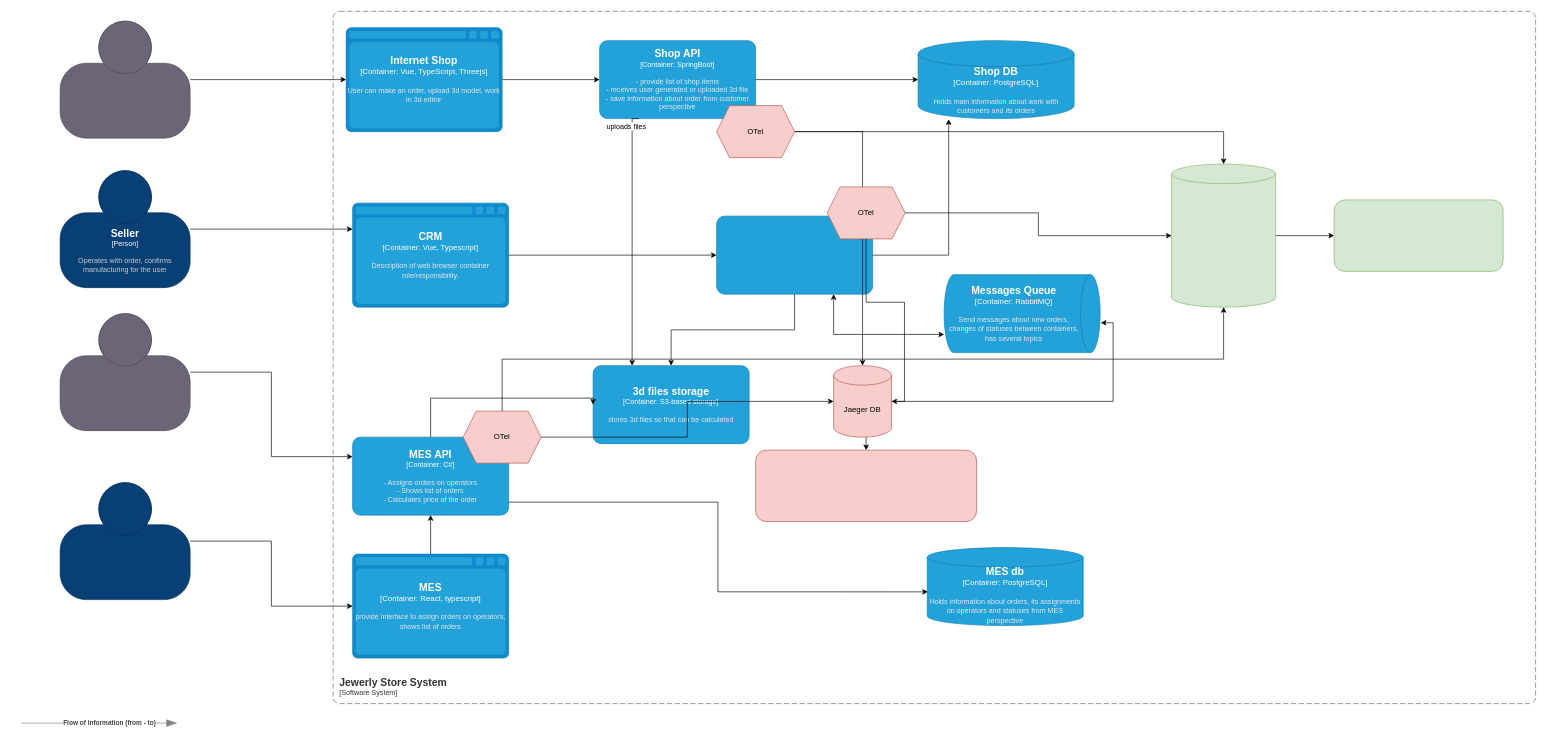
The diagram is 1547 pixels wide and 745 high, and some of its shapes have lost their labels. The shapes that lost their labels are listed below. From the top down, each one's centre as x and y in pixels, then its label:
At [124,79]: "Customer [Person] Description of external person.".
At [794,254]: "CRM API [Container: SpringBoot] Description of container role/responsibility.".
At [1223,235]: "Prometheuse".
At [1418,235]: "Grafana".
At [124,372]: "API user [Person] Description of external person.".
At [866,485]: "Jaeger UI".
At [124,541]: "Operator [Person] Takes order in work, manufactures jewerly".
